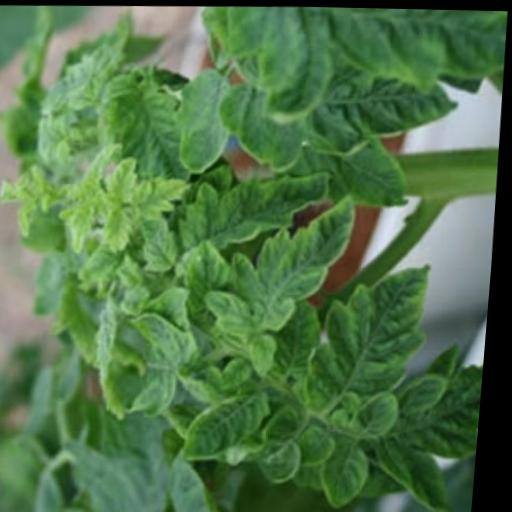Yellow Leaf Curl Virus: (189, 3, 509, 129), (213, 63, 464, 174), (232, 192, 368, 352), (309, 253, 442, 409), (371, 342, 491, 512), (92, 58, 201, 195), (63, 145, 195, 256), (177, 167, 331, 251), (301, 132, 417, 211), (183, 384, 282, 462), (174, 67, 243, 173), (179, 229, 238, 323), (132, 305, 208, 373), (324, 433, 385, 510)
